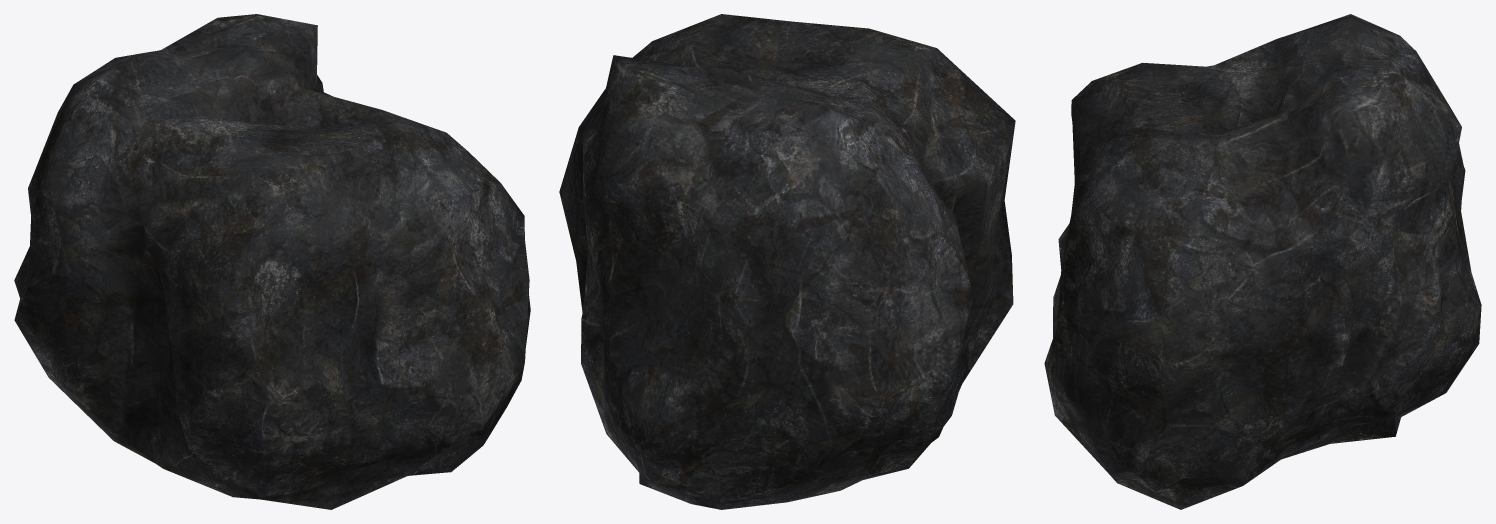
File: Rock_4.glb
3 views of the same model, side by side, from view 1: azimuth 30°, elevation 25°; view 2: azimuth 150°, elevation 25°; view 3: azimuth 270°, elevation 25° (orthographic). The views are drawn at different scales.
Parts seen in each view (by area): view 1: rock_04; view 2: rock_04; view 3: rock_04.
Boxes of the visible parts, bbox=[...] form: rock_04: bbox=[14, 14, 530, 509]; rock_04: bbox=[559, 14, 1015, 509]; rock_04: bbox=[1044, 14, 1481, 509].
Size of the model in its own units: 1.1 by 1 by 1.
Materials: 1 (1 with a texture image).
